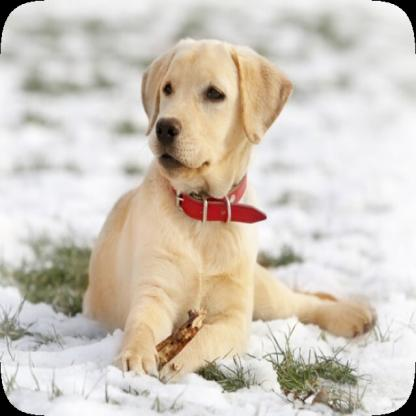dog: (81, 37, 371, 381)
